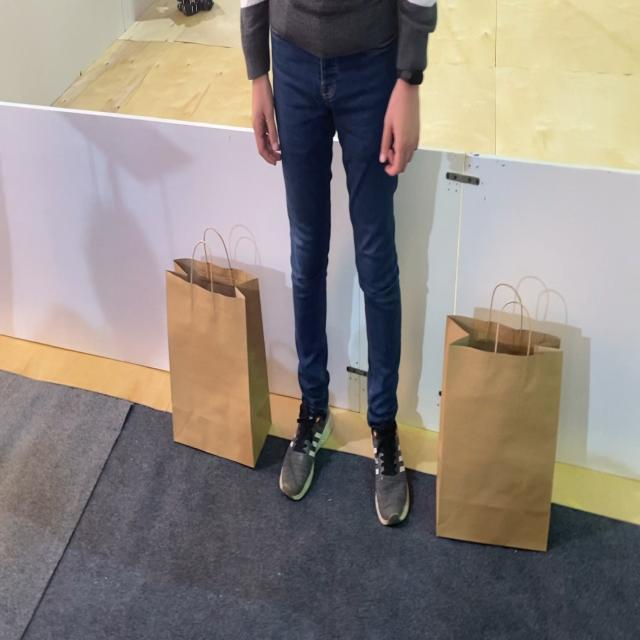Paper_Bag: (436, 283, 564, 552), (165, 226, 272, 468)
